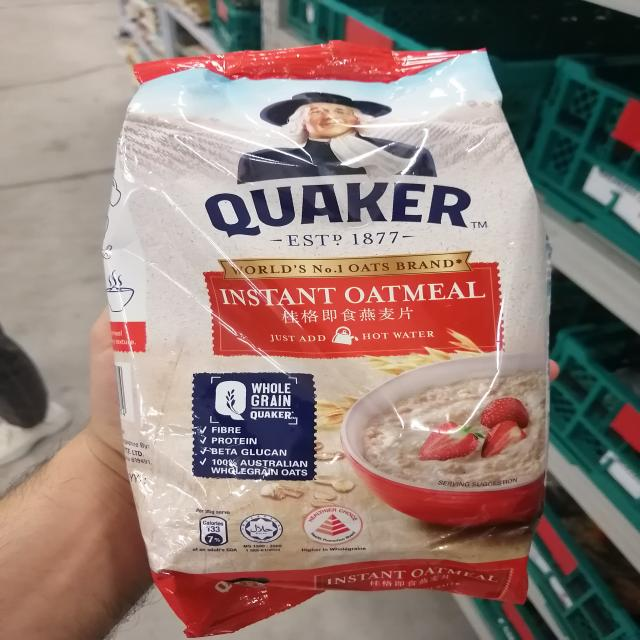object_name: (108, 72, 524, 609)
